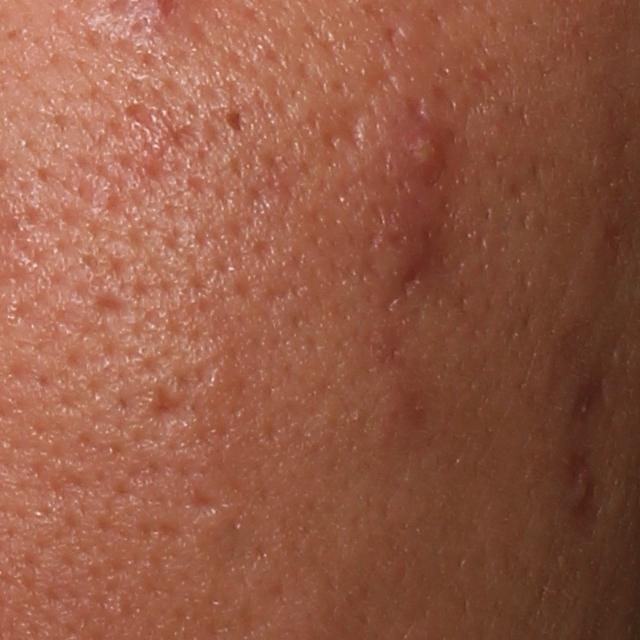atrophic_scar: (317, 88, 377, 154), (562, 448, 602, 526), (143, 380, 198, 434), (86, 292, 137, 323), (188, 482, 217, 513)
papule: (365, 221, 442, 300), (390, 119, 450, 180)
